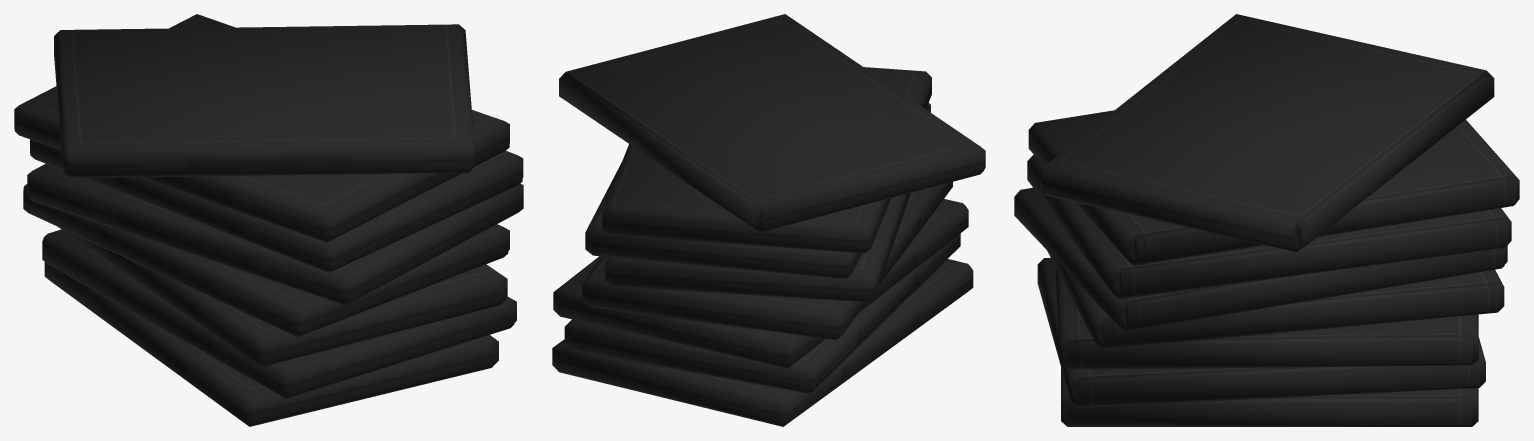
Rendered from dvd_case_pile_generic.dae.
3 renders of one model, left to right at view 1: azimuth 30°, elevation 25°; view 2: azimuth 150°, elevation 25°; view 3: azimuth 270°, elevation 25°, orthographic. The views are drawn at different scales.
Parts seen in each view (by area): view 1: polySurface31; view 2: polySurface31; view 3: polySurface31.
Boxes of the visible parts, left/top/right/bottom form: polySurface31: left=14, top=14, right=523, bottom=426; polySurface31: left=552, top=14, right=985, bottom=426; polySurface31: left=1014, top=14, right=1519, bottom=426.
Bounding box in the file's own units: 0.2284 × 0.123 × 0.2297.
